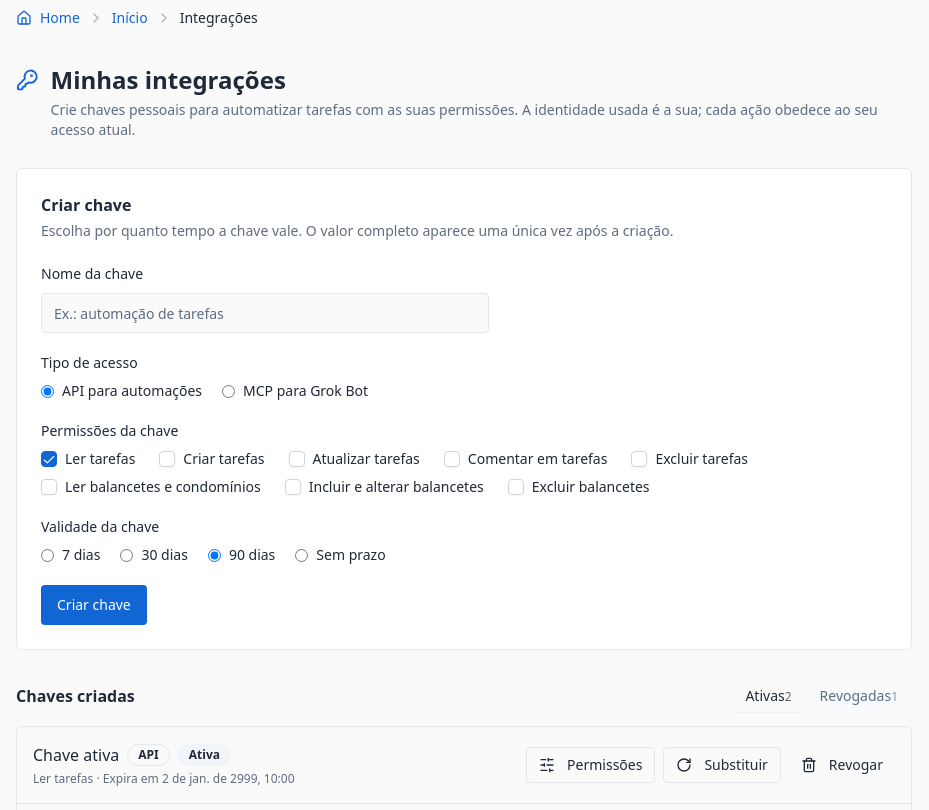
it: personal integration keys › status filter › switches to revoked keys only, without management actions
The image size is (929, 810).
Expected: the text "Chave ativa" is shown, [33, 743, 119, 767]
What coordinates should you click on to do the following:
click the radio button labelled "Revogadas1"
I would click on:
 (859, 696)
Its box is [808, 680, 910, 712].
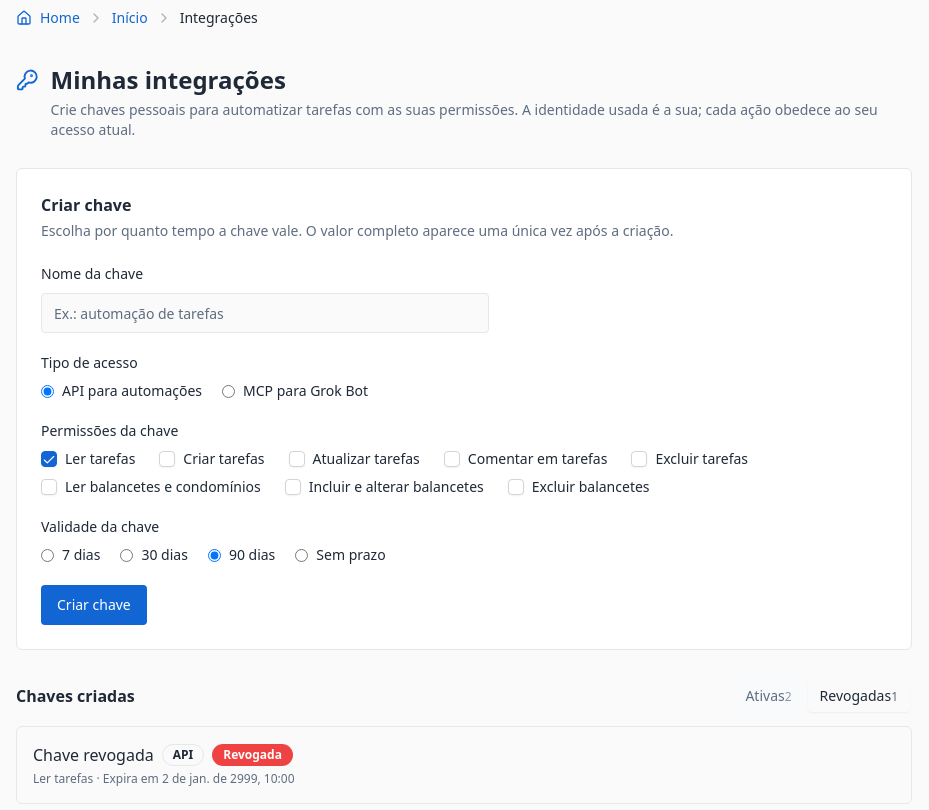
Now the text "Chave revogada" is shown, box [33, 743, 154, 767]
Now the text "Chave ativa" is gone
Now the button "Substituir" is gone
What coordinates should you click on to do the following:
click the radio button labelled "Ativas2"
I would click on:
 (768, 696)
Its box is [733, 680, 804, 712].
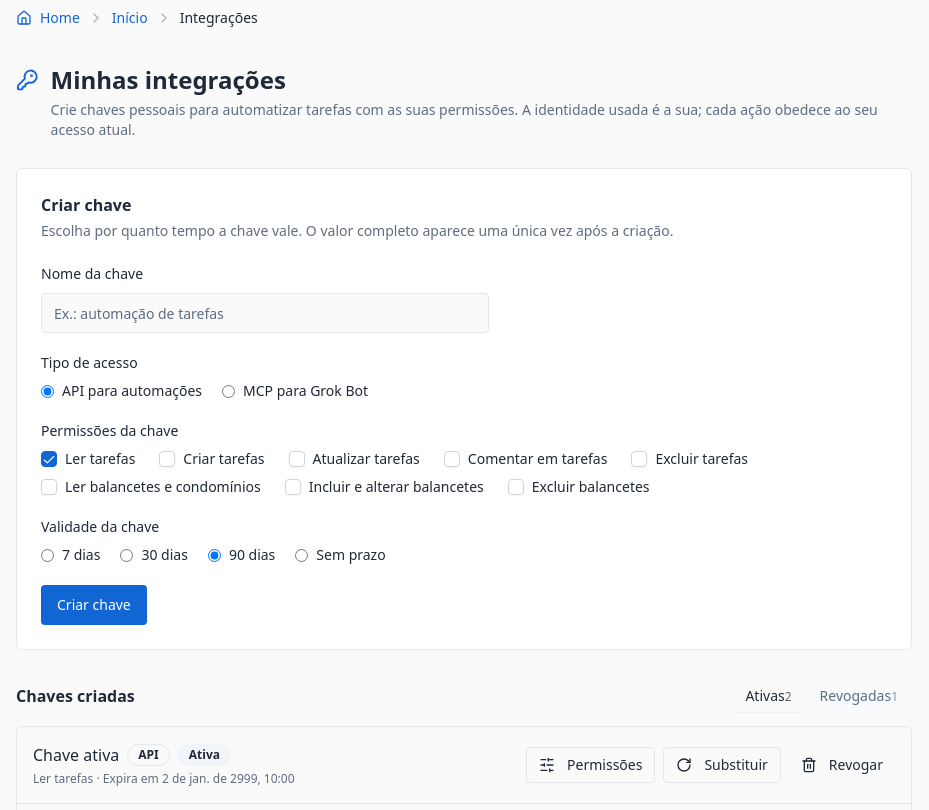
Now the text "Chave ativa" is shown, box [33, 743, 119, 767]
Now the text "Chave revogada" is gone
